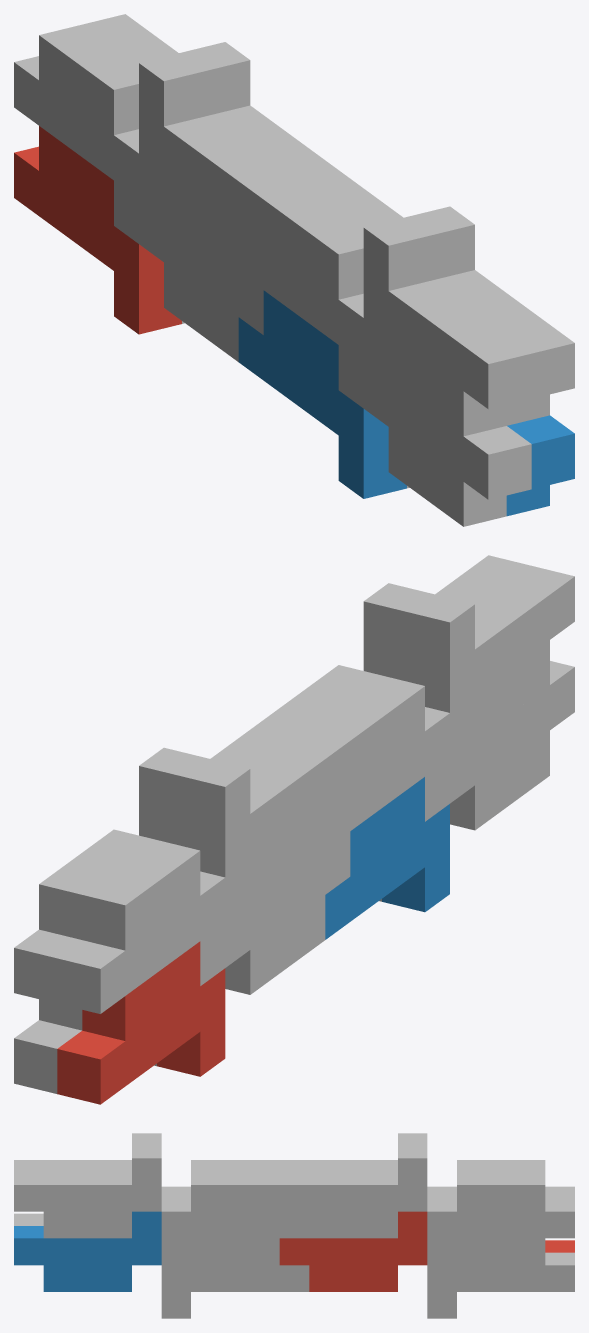
File: tiling.obj
The picture shows the model from 3 angles, top to bottom: view 1: azimuth 30°, elevation 25°; view 2: azimuth 150°, elevation 25°; view 3: azimuth 270°, elevation 25°; orthographic projection. The views are drawn at different scales.
Parts seen in each view (by area): view 1: copy_2_domain_4, copy_2_domain_3, copy_1_domain_3, copy_1_domain_4, copy_2_domain_2, copy_1_domain_1, copy_1_domain_2, copy_2_domain_1, copy_2_domain_8, copy_2_domain_7, copy_2_domain_6, copy_1_domain_8 (+1 smaller); view 2: copy_1_domain_3, copy_2_domain_3, copy_2_domain_4, copy_1_domain_1, copy_1_domain_4, copy_2_domain_2, copy_1_domain_2, copy_2_domain_1, copy_1_domain_7, copy_2_domain_8, copy_2_domain_7, copy_1_domain_5 (+1 smaller); view 3: copy_2_domain_7, copy_1_domain_7, copy_2_domain_8, copy_1_domain_8, copy_2_domain_6, copy_1_domain_5, copy_2_domain_5, copy_1_domain_6, copy_1_domain_3, copy_2_domain_3, copy_2_domain_4, copy_1_domain_4 (+2 smaller).
Part boxes in pixels (x1=…): copy_2_domain_4: x1=363, y1=217, x2=531, y2=436; copy_2_domain_3: x1=139, y1=52, x2=306, y2=271; copy_1_domain_3: x1=14, y1=24, x2=138, y2=243; copy_1_domain_4: x1=238, y1=189, x2=363, y2=408; copy_2_domain_2: x1=363, y1=318, x2=531, y2=526; copy_1_domain_1: x1=14, y1=126, x2=181, y2=334; copy_1_domain_2: x1=238, y1=290, x2=406, y2=498; copy_2_domain_1: x1=139, y1=154, x2=263, y2=361; copy_2_domain_8: x1=407, y1=206, x2=574, y2=425; copy_2_domain_7: x1=182, y1=42, x2=349, y2=188; copy_2_domain_6: x1=506, y1=415, x2=574, y2=516; copy_1_domain_8: x1=307, y1=178, x2=403, y2=230; copy_1_domain_3: x1=57, y1=840, x2=225, y2=1013; copy_2_domain_3: x1=182, y1=730, x2=350, y2=904; copy_2_domain_4: x1=407, y1=566, x2=574, y2=739; copy_1_domain_1: x1=57, y1=941, x2=225, y2=1104; copy_1_domain_4: x1=307, y1=675, x2=449, y2=849; copy_2_domain_2: x1=450, y1=661, x2=574, y2=830; copy_1_domain_2: x1=325, y1=777, x2=449, y2=939; copy_2_domain_1: x1=225, y1=831, x2=350, y2=994; copy_1_domain_7: x1=14, y1=829, x2=156, y2=1003; copy_2_domain_8: x1=363, y1=555, x2=531, y2=681; copy_2_domain_7: x1=139, y1=720, x2=306, y2=845; copy_1_domain_5: x1=14, y1=999, x2=156, y2=1093; copy_2_domain_7: x1=279, y1=1145, x2=427, y2=1238; copy_1_domain_7: x1=427, y1=1172, x2=574, y2=1265; copy_2_domain_8: x1=14, y1=1145, x2=161, y2=1238; copy_1_domain_8: x1=161, y1=1172, x2=309, y2=1265; copy_2_domain_6: x1=14, y1=1211, x2=161, y2=1291; copy_1_domain_5: x1=427, y1=1238, x2=574, y2=1318; copy_2_domain_5: x1=279, y1=1211, x2=427, y2=1291; copy_1_domain_6: x1=161, y1=1238, x2=309, y2=1318; copy_1_domain_3: x1=427, y1=1160, x2=574, y2=1199; copy_2_domain_3: x1=279, y1=1133, x2=427, y2=1172; copy_2_domain_4: x1=14, y1=1133, x2=161, y2=1172; copy_1_domain_4: x1=161, y1=1160, x2=279, y2=1199.
Size of the model in its own units: 2 by 6 by 19.
